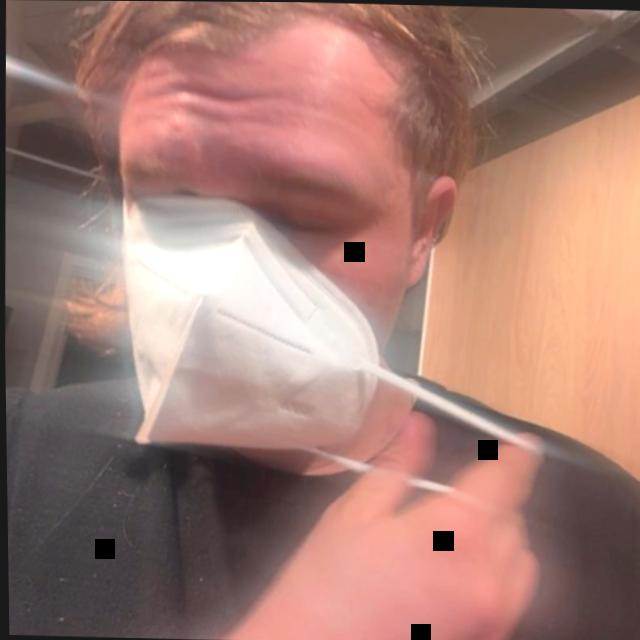Mask: (53, 0, 471, 442)
